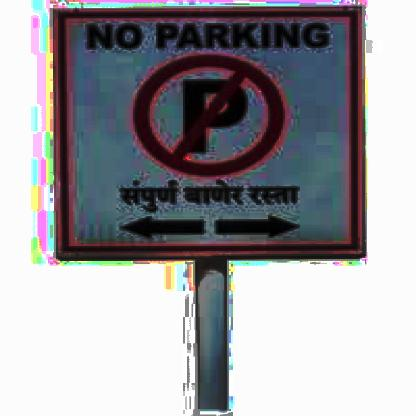No parking: (128, 48, 294, 177)
